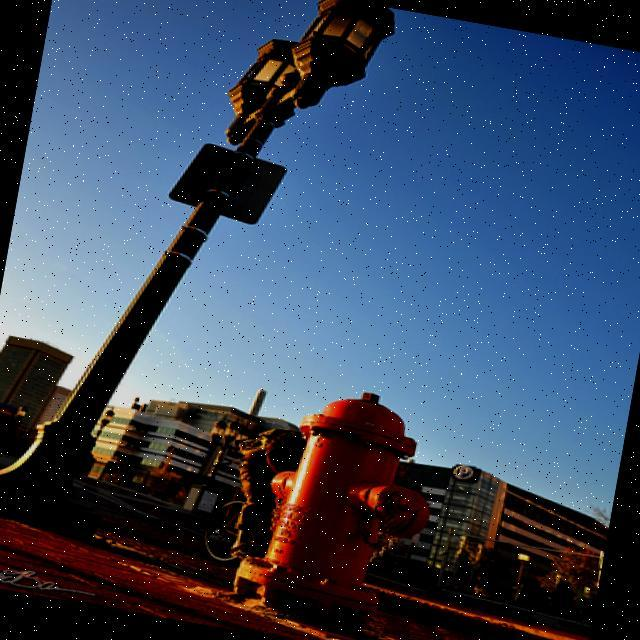fire_hydrant: (226, 372, 447, 636)
